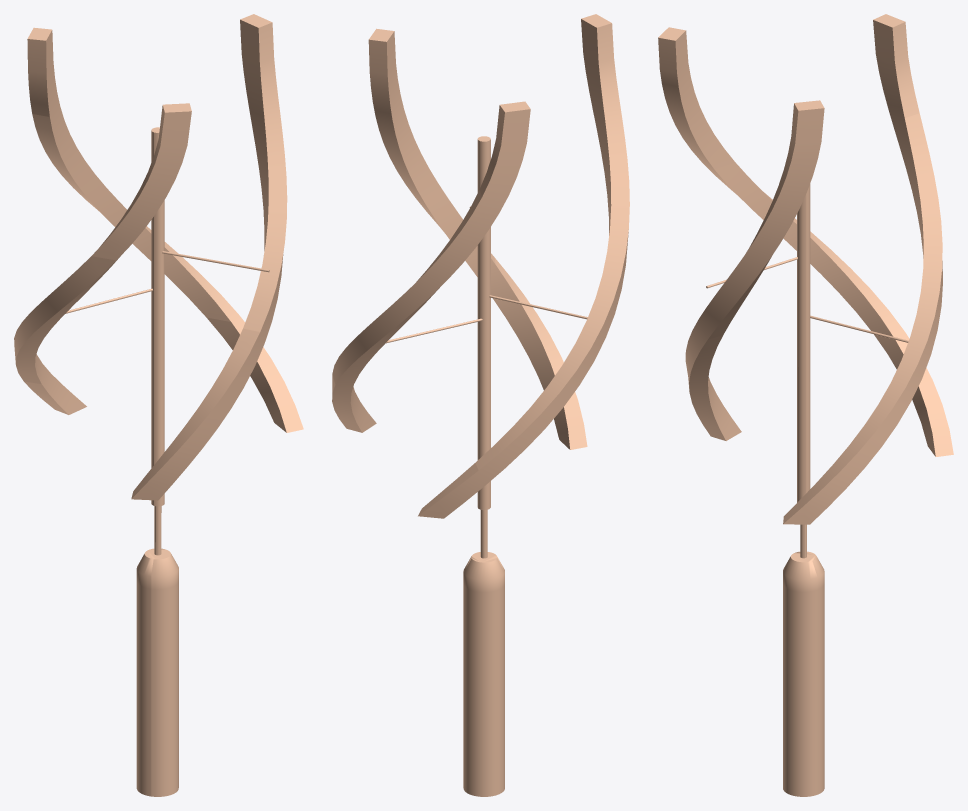
File: Windmill_08_mesh.fbx
3 views of the same model, side by side, from view 1: azimuth 30°, elevation 25°; view 2: azimuth 150°, elevation 25°; view 3: azimuth 270°, elevation 25° (orthographic).
Parts seen in each view (by area): view 1: Cylinder.001, Cylinder.030; view 2: Cylinder.001, Cylinder.030; view 3: Cylinder.001, Cylinder.030.
Part boxes in pixels (x1=…): Cylinder.001: x1=14, y1=14, x2=303, y2=500; Cylinder.030: x1=136, y1=127, x2=178, y2=796; Cylinder.001: x1=332, y1=14, x2=629, y2=518; Cylinder.030: x1=463, y1=136, x2=504, y2=796; Cylinder.001: x1=658, y1=14, x2=953, y2=524; Cylinder.030: x1=783, y1=184, x2=824, y2=796.
Size of the model in its own units: 0.0922 by 0.2499 by 0.0916.
